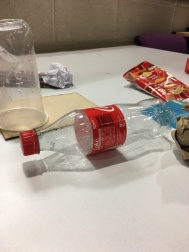bottle_red: (11, 99, 177, 173)
